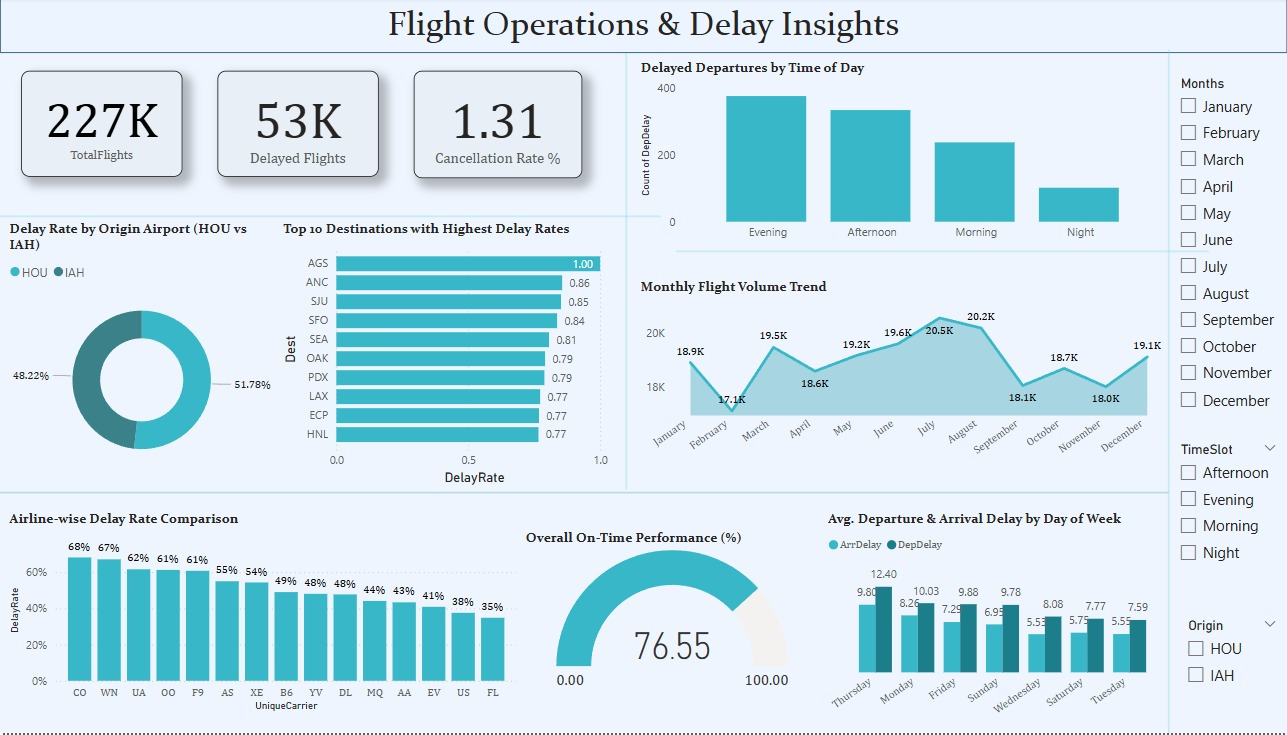

This screenshot's page, from the dashboard's own definition file:
{"tool":"powerbi","page":{"name":"Page 1","canvas":[1400,800],"ordinal":0},"visuals":[{"type":"textbox","box":[0,0,1399.5,61.1],"z":0},{"type":"card","fields":{"Values":["hflights.TotalFlights"]},"box":[23.1,80.2,175.3,115.5],"z":1000},{"type":"lineChart","title":"Monthly Flight Volume Trend","fields":{"Category":["hflights.MonthName"],"Y":["hflights.TotalFlights"]},"box":[691.6,305.7,578.8,212],"z":2000},{"type":"clusteredColumnChart","title":"Avg. Departure & Arrival Delay by Day of Week","fields":{"Category":["DelayByDay.DayName"],"Y":["Avg(DelayByDay.DelayValue)"],"Series":["DelayByDay.DelayType"]},"box":[895.4,558.4,375,241.8],"z":3000},{"type":"columnChart","title":" Airline-wise Delay Rate Comparison","fields":{"Category":["hflights.UniqueCarrier"],"Y":["hflights.DelayRate"]},"box":[5.4,558.4,561.1,222.8],"z":4000},{"type":"columnChart","title":"Delayed Departures by Time of Day","fields":{"Category":["hflights.TimeSlot"],"Y":["Count(hflights.DepDelay)"]},"box":[691.6,67.9,578.8,206.5],"z":5000},{"type":"cardVisual","fields":{"Data":["hflights.CancellationRate"]},"box":[449.7,80.2,183.4,116.8],"z":6000},{"type":"gauge","title":" Overall On-Time Performance (%)","fields":{"Y":["hflights.OnTimeRate"]},"box":[566.6,578.8,328.8,182.1],"z":7000},{"type":"cardVisual","fields":{"Data":["Sum(hflights.DelayedFlights)"]},"box":[236.4,80.2,175.3,115.5],"z":8000},{"type":"clusteredBarChart","title":"Top 10 Destinations with Highest Delay Rates","fields":{"Category":["hflights.Dest"],"Y":["hflights.DelayRate"]},"box":[303,243.2,376.4,292.1],"z":9000},{"type":"donutChart","title":"Delay Rate by Origin Airport (HOU vs IAH)","fields":{"Category":["hflights.Origin"],"Y":["hflights.DelayRate"]},"box":[5.4,243.2,297.6,281.3],"z":10000},{"type":"shape","box":[0,516.3,1270.4,44.8],"z":11000},{"type":"shape","box":[661.7,61.1,38,474.2],"z":12000},{"type":"shape","box":[735.1,254.1,578.8,44.8],"z":13000},{"type":"shape","box":[0,216,718.8,44.8],"z":14000},{"type":"shape","box":[1251.4,57.1,38,743.2],"z":15000},{"type":"slicer","fields":{"Values":["hflights.MonthName"]},"box":[1270.4,80.2,129.1,385.9],"z":16000},{"type":"slicer","fields":{"Values":["hflights.TimeSlot"]},"box":[1270.4,478.3,129.1,167.1],"z":17000},{"type":"slicer","fields":{"Values":["hflights.Origin"]},"box":[1278.5,669.8,120.9,110.1],"z":18000}]}

Visuals, with their boxes in screenshot pixels (x1, y1, x2, y2), scaled from the page's 1400x800 canvas onto the 1287x735 screenshot:
textbox: box=[0, 0, 1286, 56]
card - hflights.TotalFlights: box=[21, 74, 182, 180]
"Monthly Flight Volume Trend" lineChart: box=[636, 281, 1168, 476]
"Avg. Departure & Arrival Delay by Day of Week" clusteredColumnChart: box=[823, 513, 1168, 734]
" Airline-wise Delay Rate Comparison" columnChart: box=[5, 513, 521, 718]
"Delayed Departures by Time of Day" columnChart: box=[636, 62, 1168, 252]
cardVisual - hflights.CancellationRate: box=[413, 74, 582, 181]
" Overall On-Time Performance (%)" gauge: box=[521, 532, 823, 699]
cardVisual - Sum(hflights.DelayedFlights): box=[217, 74, 378, 180]
"Top 10 Destinations with Highest Delay Rates" clusteredBarChart: box=[279, 223, 625, 492]
"Delay Rate by Origin Airport (HOU vs IAH)" donutChart: box=[5, 223, 279, 482]
shape: box=[0, 474, 1168, 516]
shape: box=[608, 56, 643, 492]
shape: box=[676, 233, 1208, 275]
shape: box=[0, 198, 661, 240]
shape: box=[1150, 52, 1185, 734]
slicer - hflights.MonthName: box=[1168, 74, 1286, 428]
slicer - hflights.TimeSlot: box=[1168, 439, 1286, 593]
slicer - hflights.Origin: box=[1175, 615, 1286, 717]
